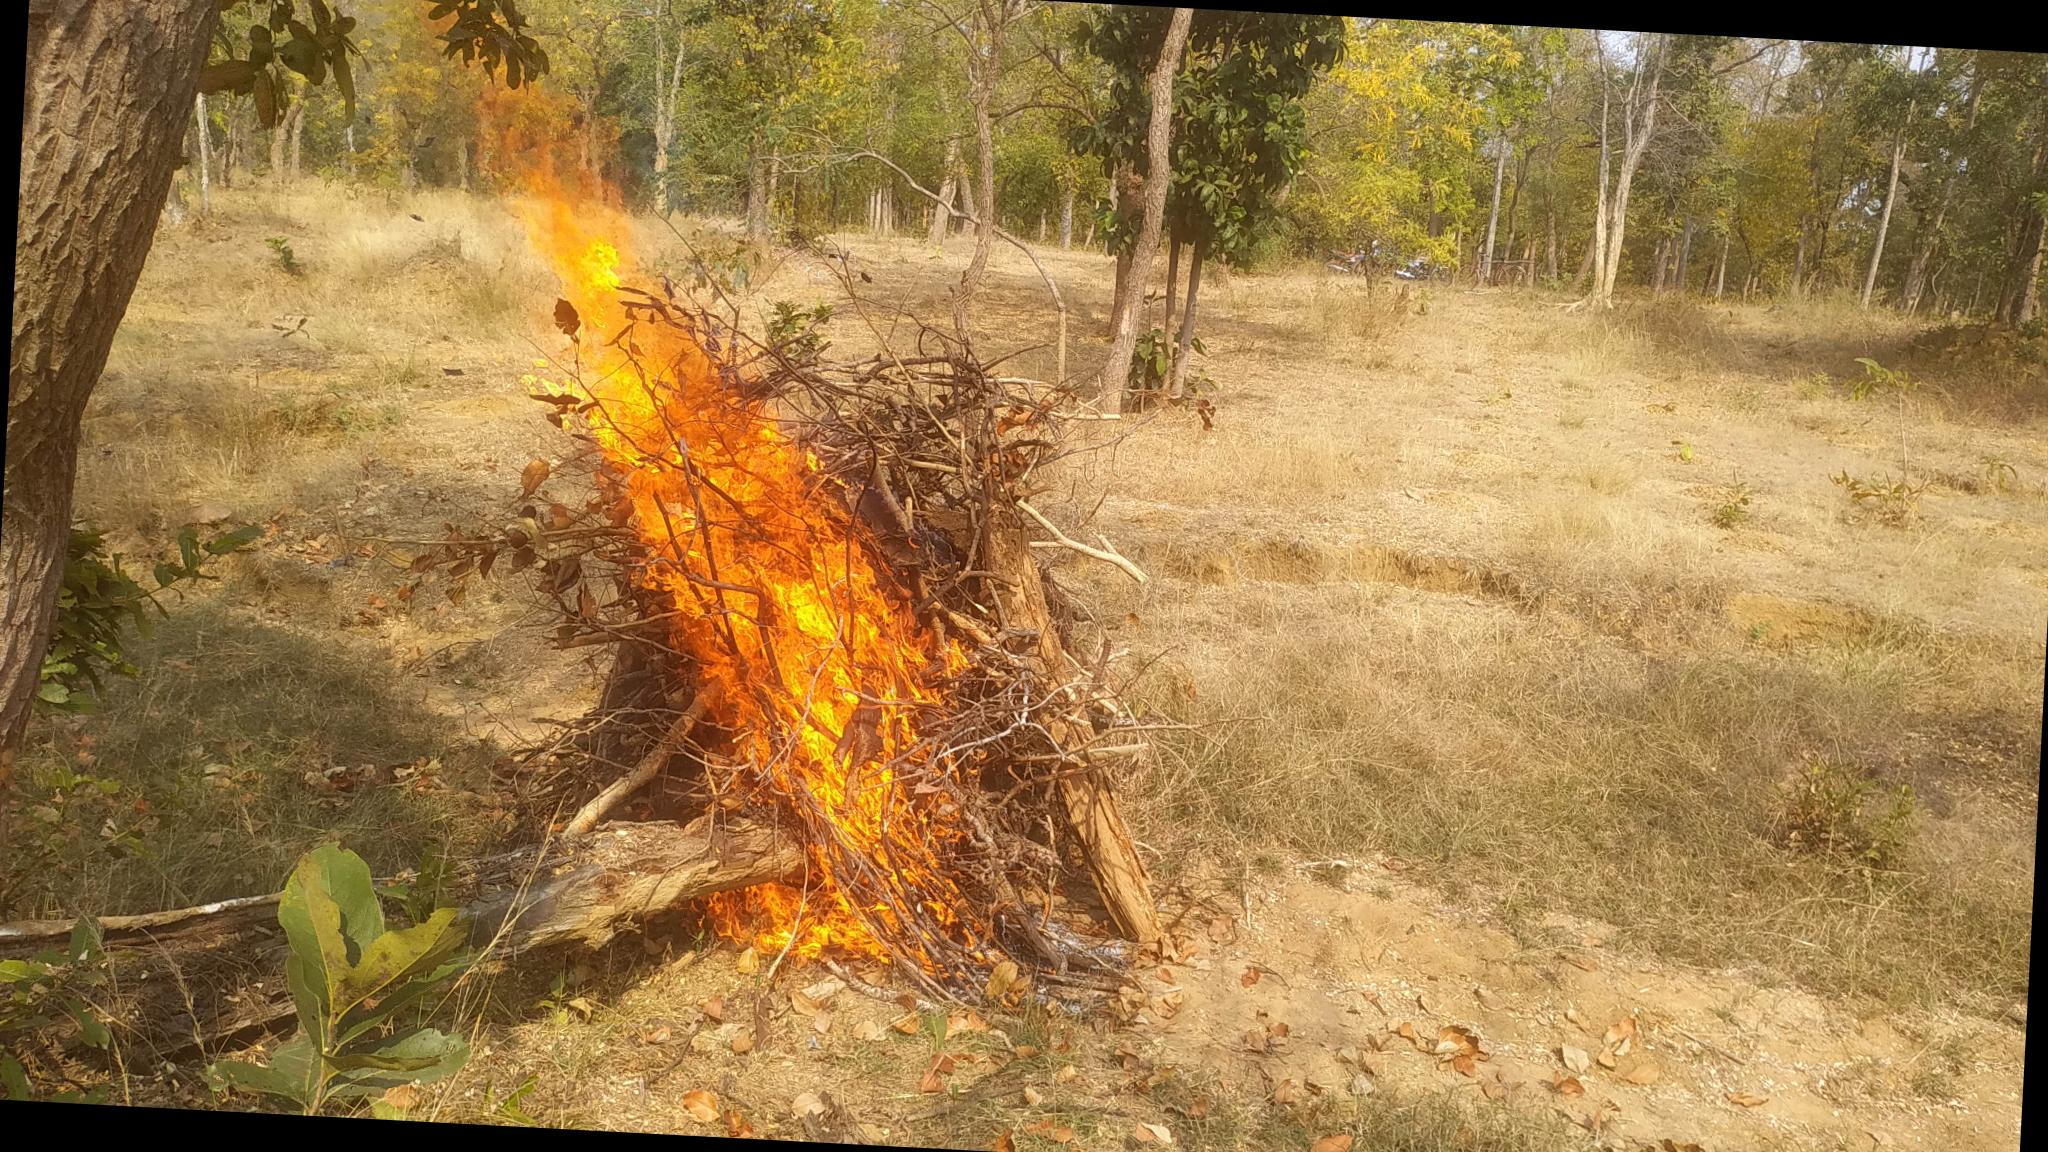Fire: (448, 93, 1016, 976)
